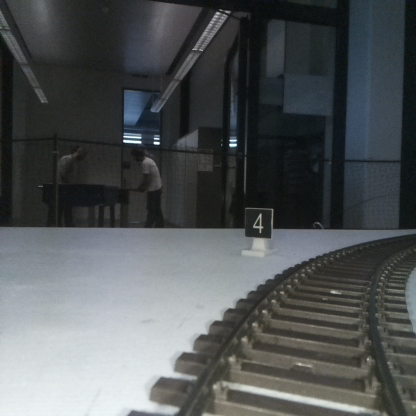black-stop-4: (246, 209, 271, 254)
